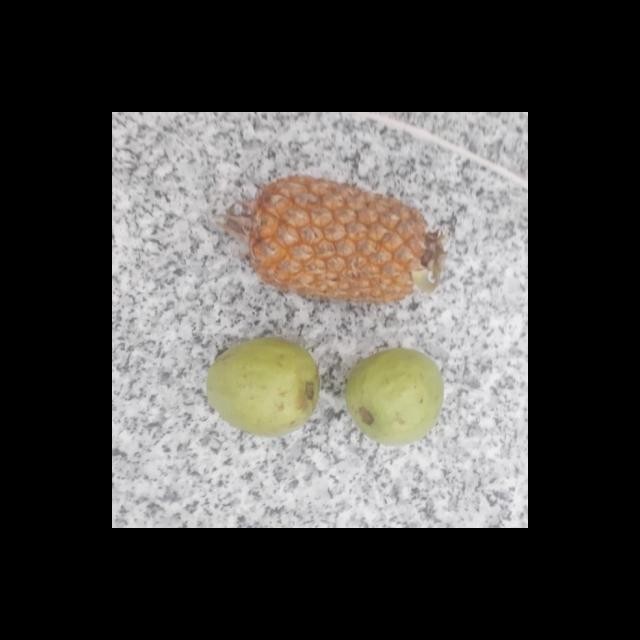guava: (206, 340, 325, 436), (342, 348, 448, 446)
pineapple: (220, 172, 454, 303)
